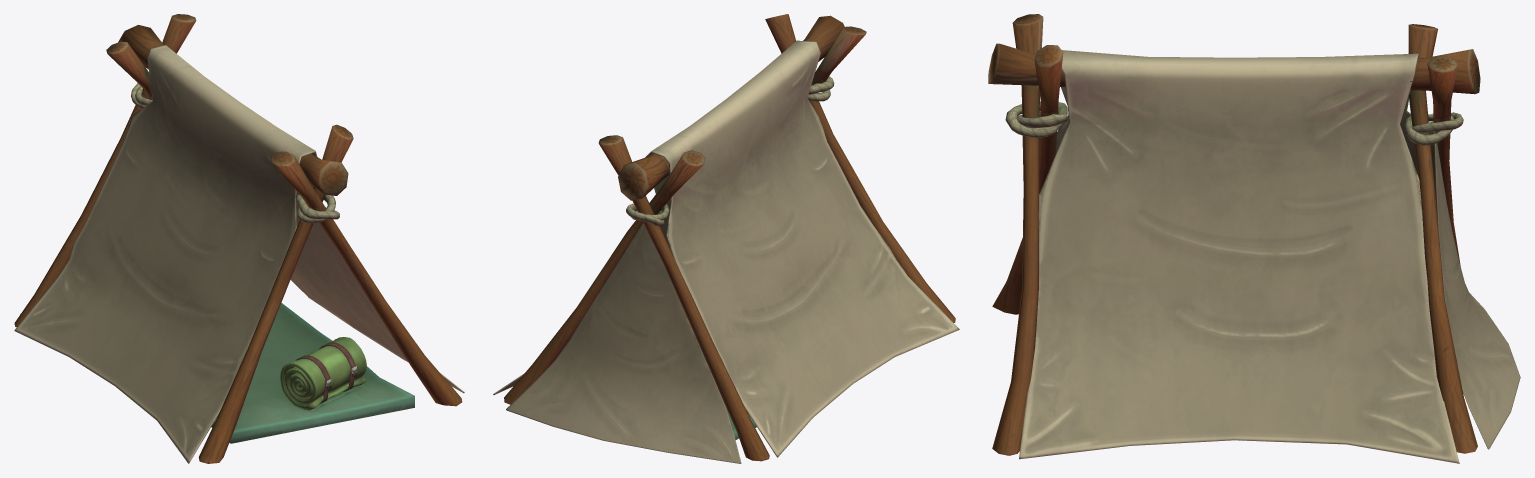
File: tent.glb
3 views of the same model, side by side, from view 1: azimuth 30°, elevation 25°; view 2: azimuth 150°, elevation 25°; view 3: azimuth 270°, elevation 25° (orthographic). The views are drawn at different scales.
Visible parts, largest first — view 1: tent; view 2: tent; view 3: tent.
Part boxes in pixels (x1,y1,x2,y2): tent: [14, 14, 464, 463]; tent: [493, 14, 959, 463]; tent: [988, 14, 1520, 463].
Bounding box in the file's own units: 184 × 179 × 248.
Materials: 1 (1 with a texture image).
